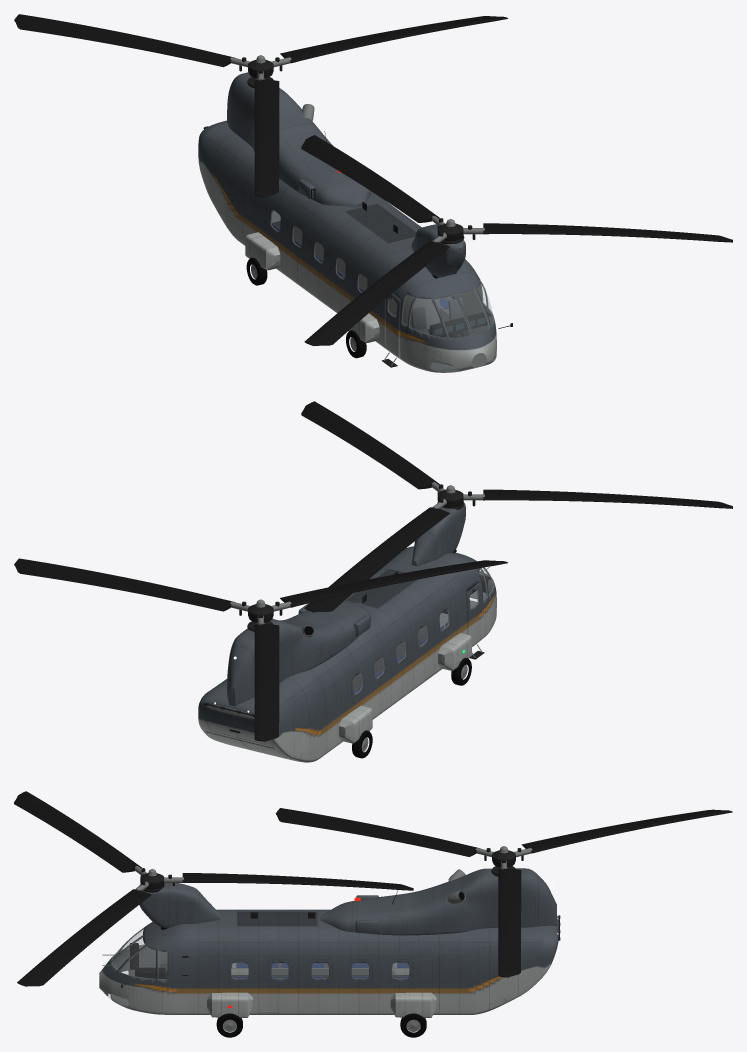
Rendered from tandem-rotor-helicopter.glb.
The picture shows the model from 3 angles, top to bottom: view 1: azimuth 30°, elevation 25°; view 2: azimuth 150°, elevation 25°; view 3: azimuth 270°, elevation 25°; orthographic projection. The views are drawn at different scales.
Visible parts, largest first — view 1: fuselage, upper_and_sponsons, rear_rotor_blades_mesh, front_rotor_blades_mesh, glass_0, interior, landing_gear, rear_rotor_hub_mesh, front_rotor_hub_mesh, door_crew_skin; view 2: fuselage, upper_and_sponsons, rear_rotor_blades_mesh, front_rotor_blades_mesh, landing_gear, rear_rotor_hub_mesh, front_rotor_hub_mesh, interior, door_crew_skin, ramp_skin; view 3: fuselage, upper_and_sponsons, rear_rotor_blades_mesh, front_rotor_blades_mesh, glass_0, interior, landing_gear, rear_rotor_hub_mesh, front_rotor_hub_mesh.
Boxes of the visible parts, left/top/right/bottom form: fuselage: left=198, top=120, right=496, bottom=372; upper_and_sponsons: left=203, top=72, right=512, bottom=367; rear_rotor_blades_mesh: left=14, top=14, right=507, bottom=197; front_rotor_blades_mesh: left=301, top=135, right=732, bottom=345; glass_0: left=402, top=280, right=496, bottom=371; interior: left=272, top=221, right=491, bottom=337; landing_gear: left=246, top=257, right=366, bottom=358; rear_rotor_hub_mesh: left=230, top=55, right=291, bottom=80; front_rotor_hub_mesh: left=432, top=216, right=484, bottom=242; door_crew_skin: left=385, top=294, right=400, bottom=357; fuselage: left=198, top=546, right=496, bottom=762; upper_and_sponsons: left=203, top=501, right=489, bottom=743; rear_rotor_blades_mesh: left=14, top=558, right=507, bottom=741; front_rotor_blades_mesh: left=301, top=401, right=732, bottom=612; landing_gear: left=352, top=658, right=471, bottom=758; rear_rotor_hub_mesh: left=230, top=599, right=291, bottom=624; front_rotor_hub_mesh: left=431, top=482, right=484, bottom=509; interior: left=352, top=550, right=491, bottom=693; door_crew_skin: left=466, top=583, right=481, bottom=646; ramp_skin: left=205, top=730, right=294, bottom=760; fuselage: left=99, top=909, right=558, bottom=1014; upper_and_sponsons: left=102, top=866, right=560, bottom=1017; rear_rotor_blades_mesh: left=275, top=808, right=732, bottom=977; front_rotor_blades_mesh: left=14, top=791, right=413, bottom=986; glass_0: left=107, top=928, right=167, bottom=1005; interior: left=130, top=927, right=409, bottom=979; landing_gear: left=216, top=1013, right=426, bottom=1037; rear_rotor_hub_mesh: left=475, top=846, right=532, bottom=869; front_rotor_hub_mesh: left=135, top=866, right=183, bottom=890.
Size of the model in its own units: 17.08 by 6.42 by 25.05.
Materials: 22 (1 with a texture image).
